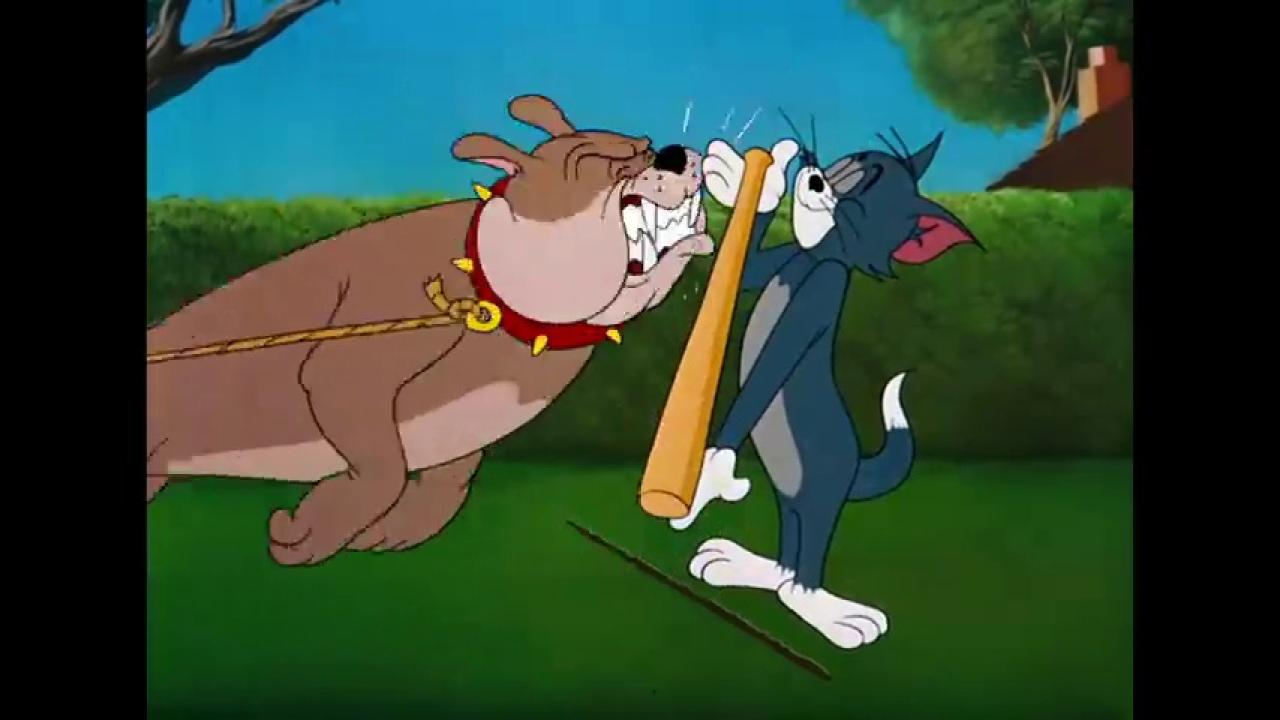Tom: (670, 128, 989, 651)
